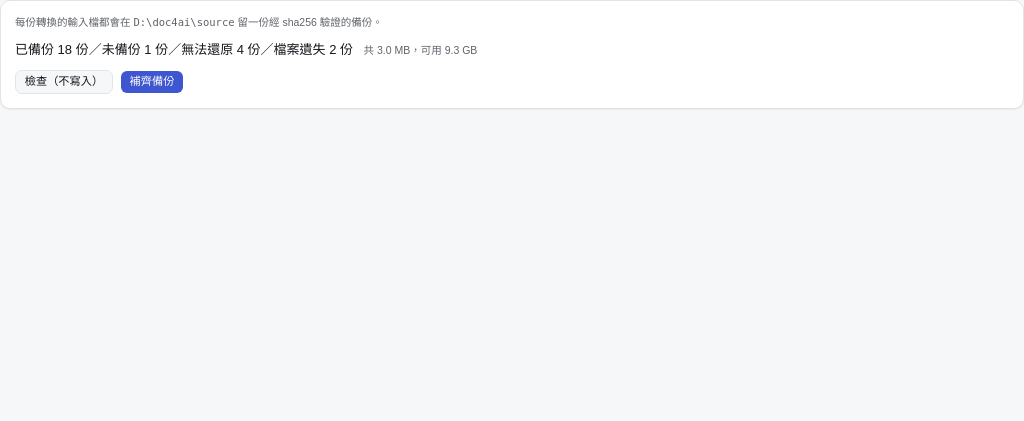
Test: 補齊備份 posts dry_run false and renders all seven outcome texts
Click the button "補齊備份" at coordinates (152, 82), box [120,70,184,94]
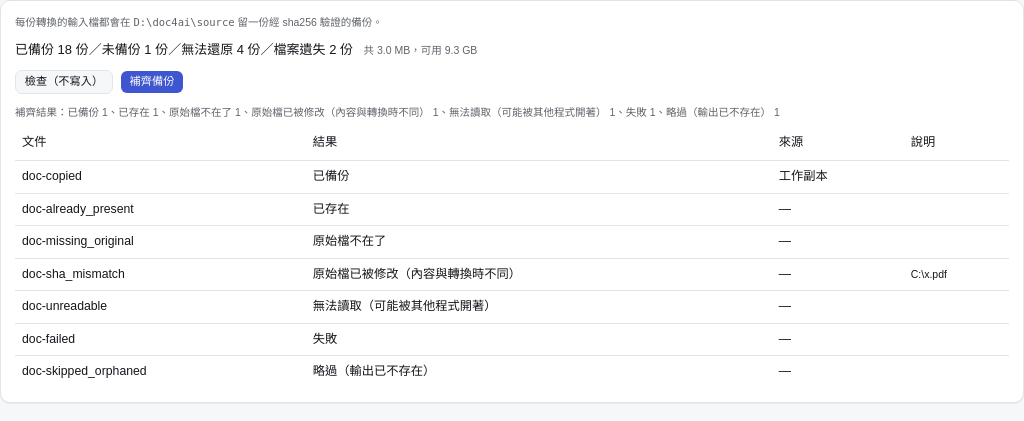
expect the cell "C:\\x.pdf" reads "C:\\x.pdf": met, box [911,268,947,280]
